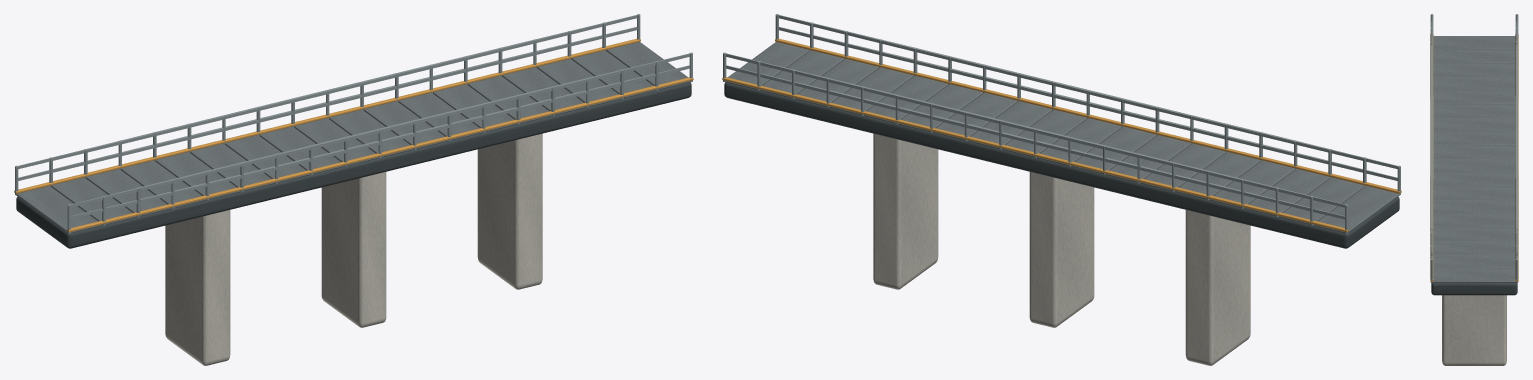
Rendered from bridge-span-27.61fa0489a831.glb.
The picture shows the model from 3 angles, left to right: view 1: azimuth 30°, elevation 25°; view 2: azimuth 150°, elevation 25°; view 3: azimuth 270°, elevation 25°; orthographic projection. The views are drawn at different scales.
Parts seen in each view (by area): view 1: MF_Bridge__structure_ivory_ceramic, MF_Bridge__court_weathered_basalt, MF_Bridge__brushed_titanium, MF_Bridge__structure_graphite_joints, MF_Bridge__utility_ochre; view 2: MF_Bridge__structure_ivory_ceramic, MF_Bridge__court_weathered_basalt, MF_Bridge__brushed_titanium, MF_Bridge__structure_graphite_joints, MF_Bridge__utility_ochre; view 3: MF_Bridge__court_weathered_basalt, MF_Bridge__structure_ivory_ceramic, MF_Bridge__brushed_titanium, MF_Bridge__structure_graphite_joints, MF_Bridge__utility_ochre.
Part boxes in pixels (box(x1,y1,x2,y2)): MF_Bridge__structure_ivory_ceramic: box(165, 133, 542, 365); MF_Bridge__court_weathered_basalt: box(16, 42, 690, 233); MF_Bridge__brushed_titanium: box(15, 14, 692, 233); MF_Bridge__structure_graphite_joints: box(16, 82, 691, 248); MF_Bridge__utility_ochre: box(14, 38, 693, 232); MF_Bridge__structure_ivory_ceramic: box(873, 133, 1250, 365); MF_Bridge__court_weathered_basalt: box(725, 42, 1399, 233); MF_Bridge__brushed_titanium: box(723, 14, 1400, 233); MF_Bridge__structure_graphite_joints: box(724, 82, 1399, 248); MF_Bridge__utility_ochre: box(722, 38, 1401, 232); MF_Bridge__court_weathered_basalt: box(1432, 36, 1516, 282); MF_Bridge__structure_ivory_ceramic: box(1442, 295, 1506, 365); MF_Bridge__brushed_titanium: box(1430, 14, 1518, 282); MF_Bridge__structure_graphite_joints: box(1431, 283, 1517, 295); MF_Bridge__utility_ochre: box(1430, 34, 1518, 281).
Size of the model in its own units: 27 by 8.35 by 4.09.
5 materials, 3 textured.
